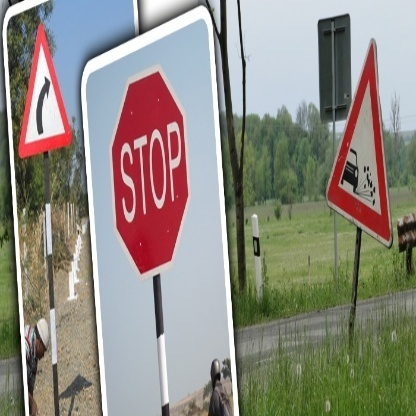stop: (111, 70, 187, 270)
